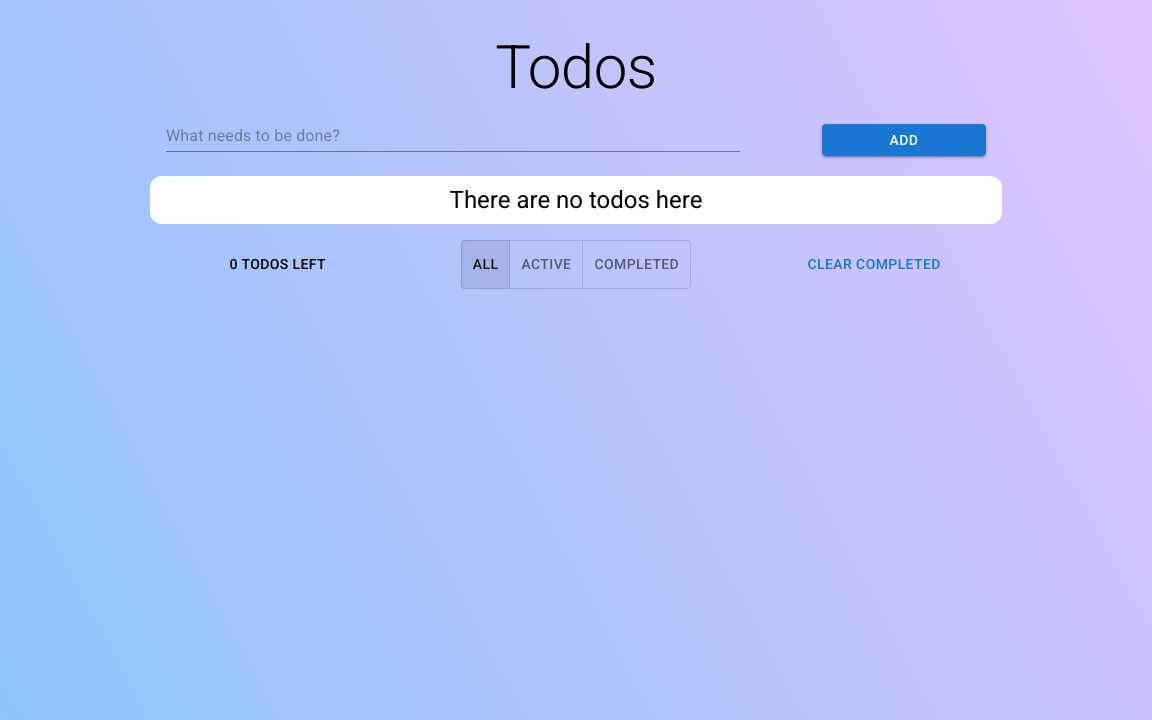
Add form › should be required
The image size is (1152, 720).
Click the button with test id "btn".
click(904, 140)  # box [822,124,986,156]
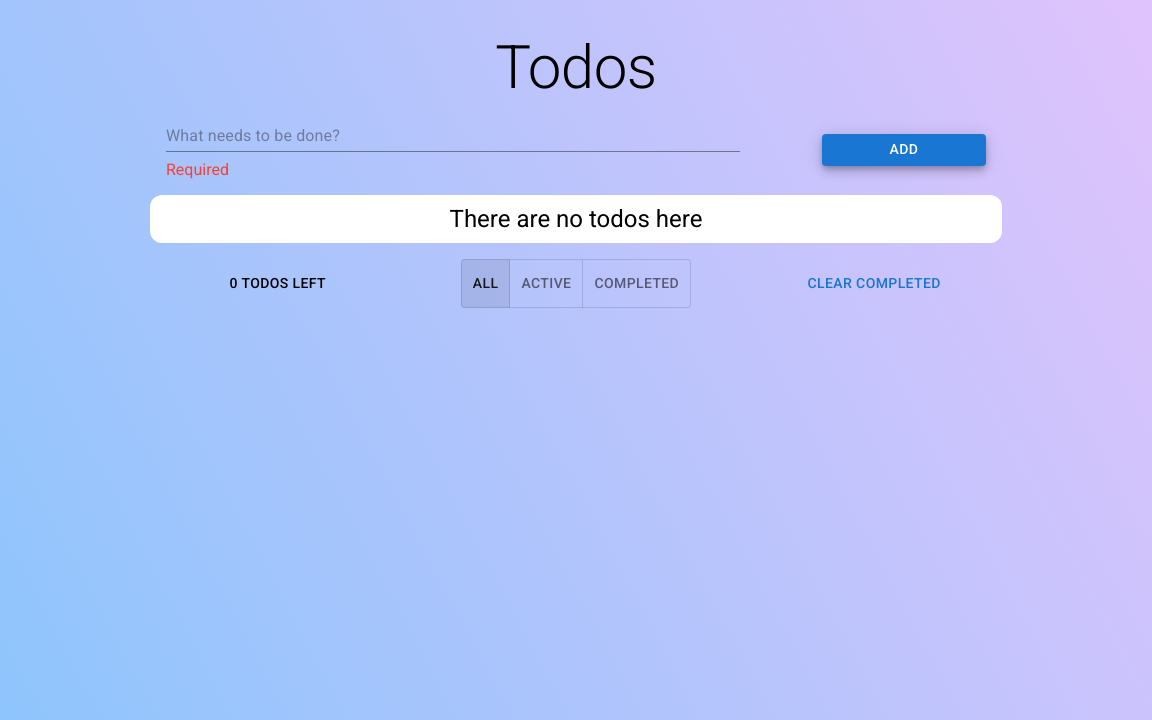
Now the text with test id "errorMessage" reads "Required", box [166,160,229,179]
